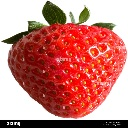strawberry: (9, 9, 128, 118)
